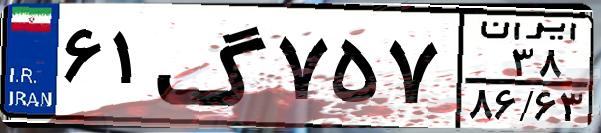1: (110, 28, 156, 98)
3: (560, 70, 590, 125), (508, 27, 537, 80)
5: (330, 28, 385, 110)
6: (57, 26, 110, 100), (495, 70, 520, 125), (535, 70, 560, 125)
7: (270, 28, 330, 110), (385, 28, 445, 110)
8: (537, 27, 568, 80), (470, 70, 495, 125)
گ: (156, 12, 270, 120)
